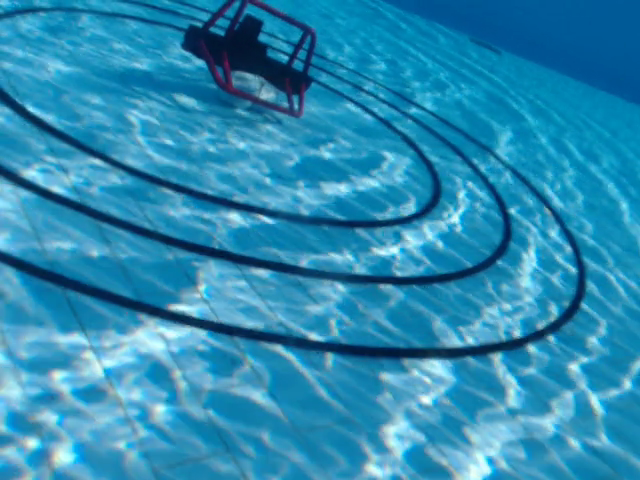submarine: (176, 1, 319, 120)
